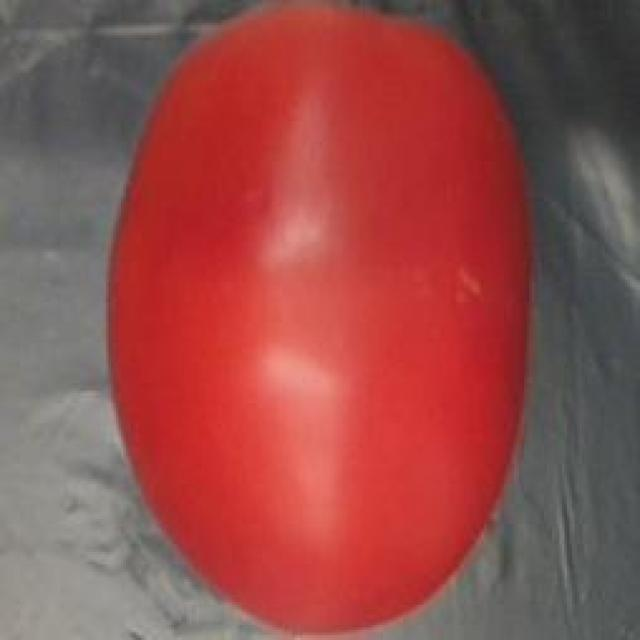ripe tomato: (90, 0, 546, 640)
